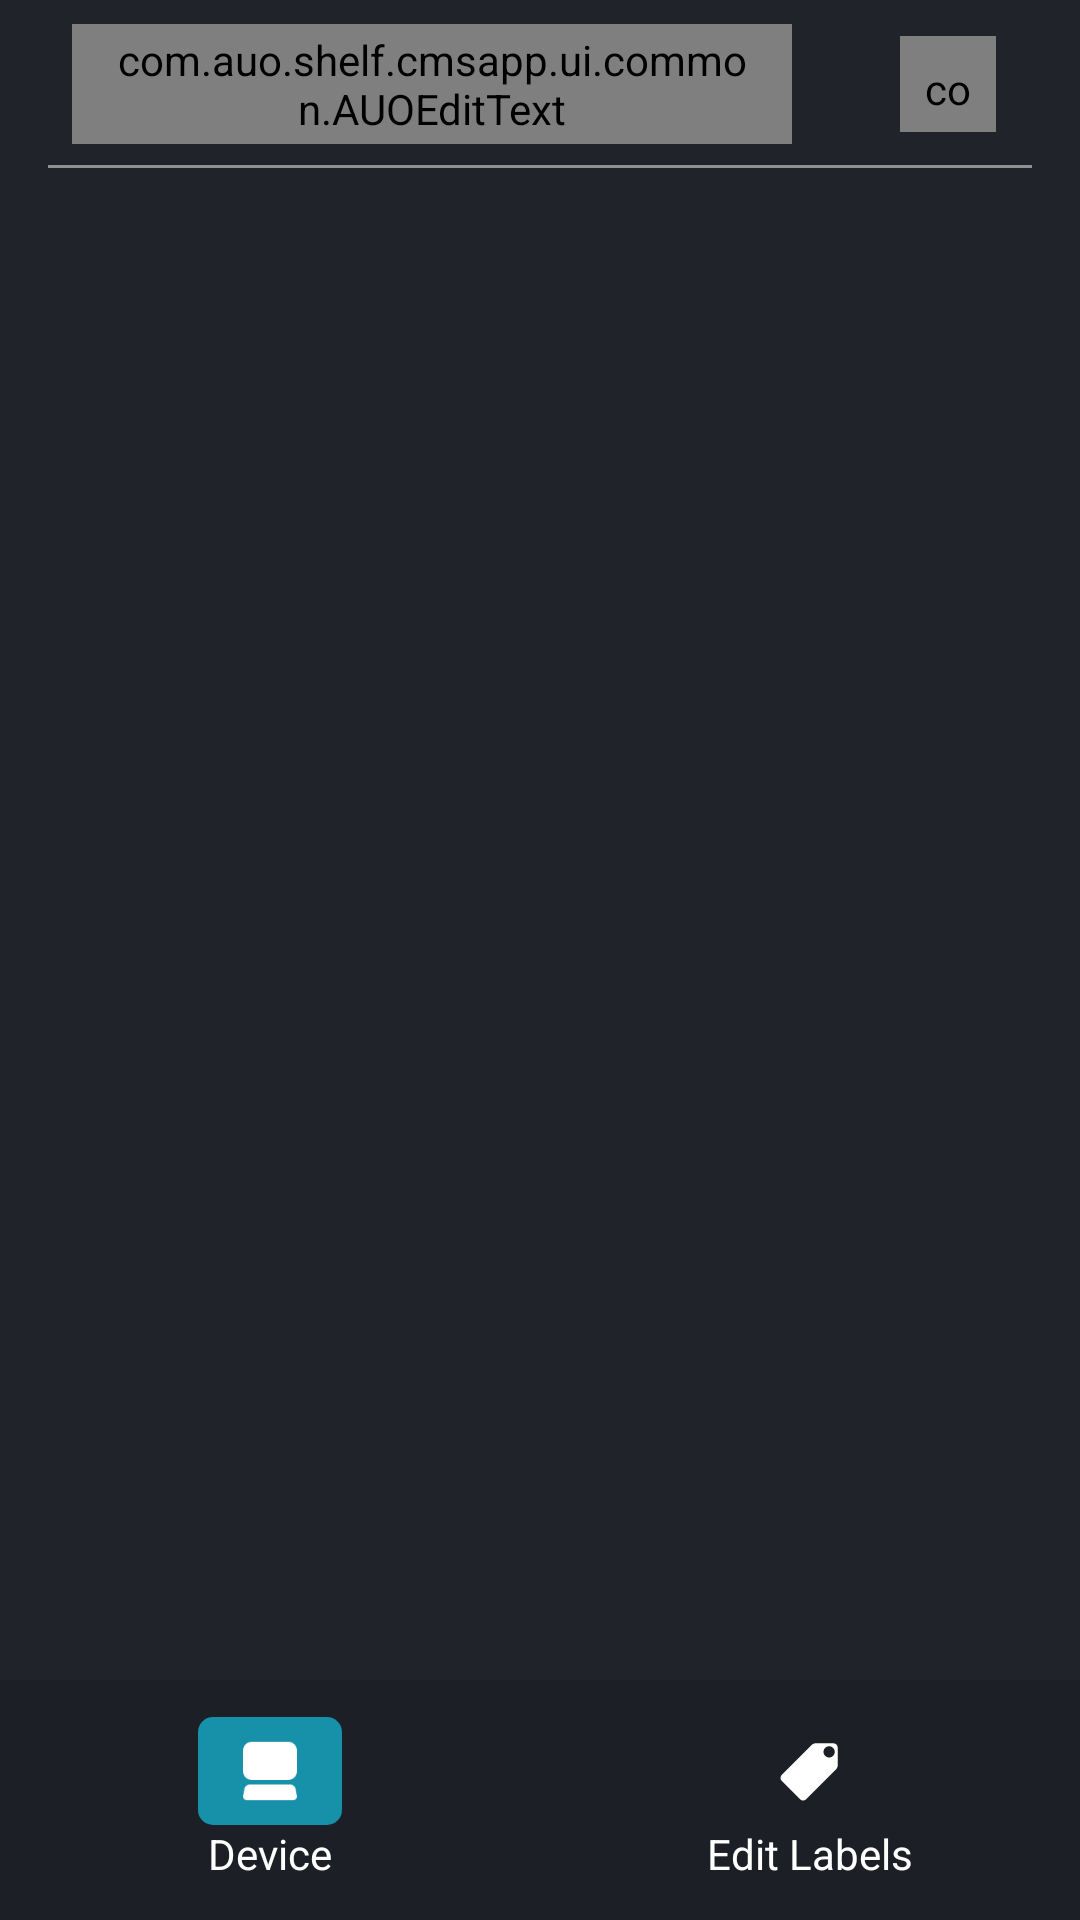

Icons on this 1080×1920 Android screen, each with the point to tap as (x=x, y=y):
computer: (x=270, y=1771)
